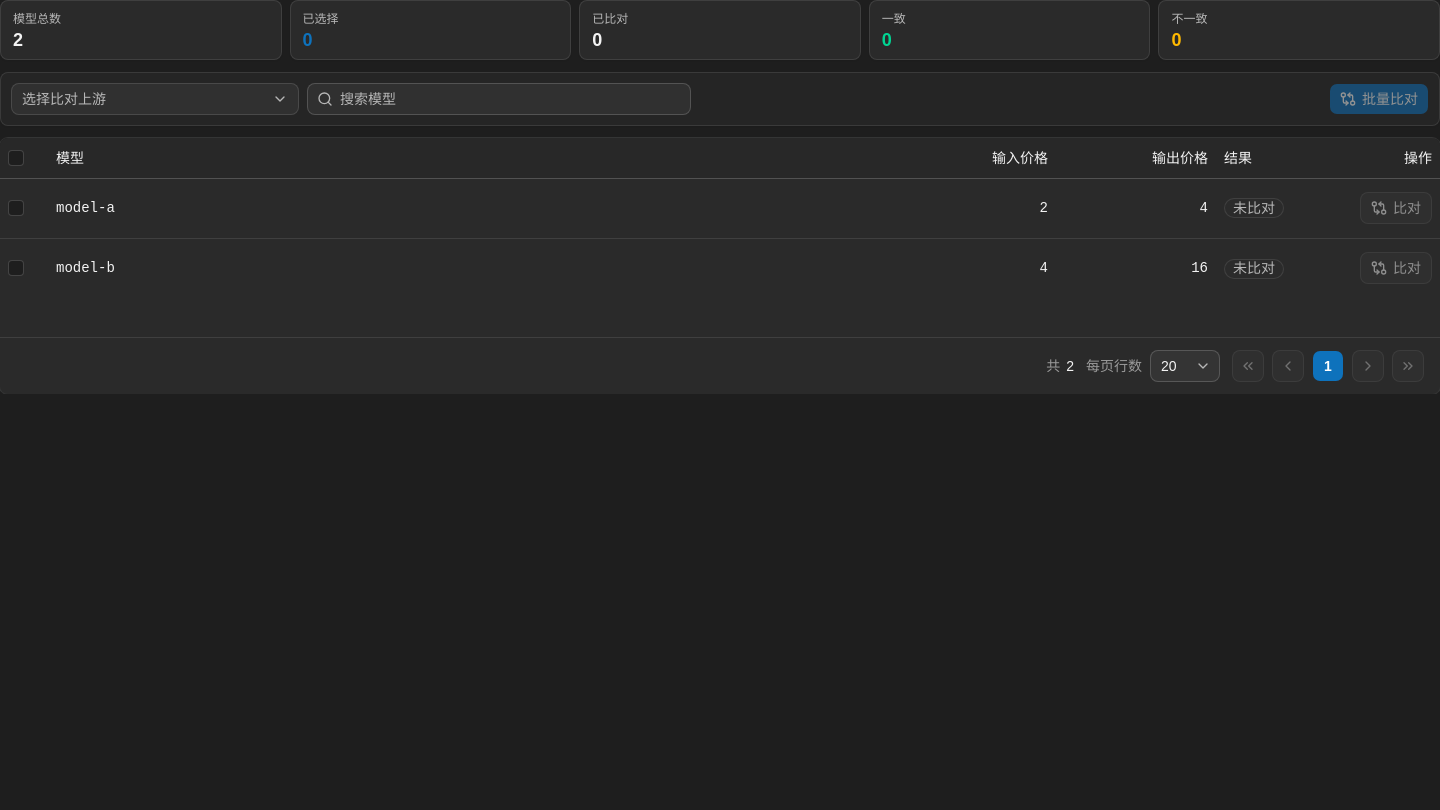
Test: New API 价格比对 › 比对按 Token 计费的 New API 上游时展示输入、输出及缓存价格
The image size is (1440, 810).
Click the dropdown labelled "比对上游": [64, 99] box x1=11 y1=83 x2=299 y2=115
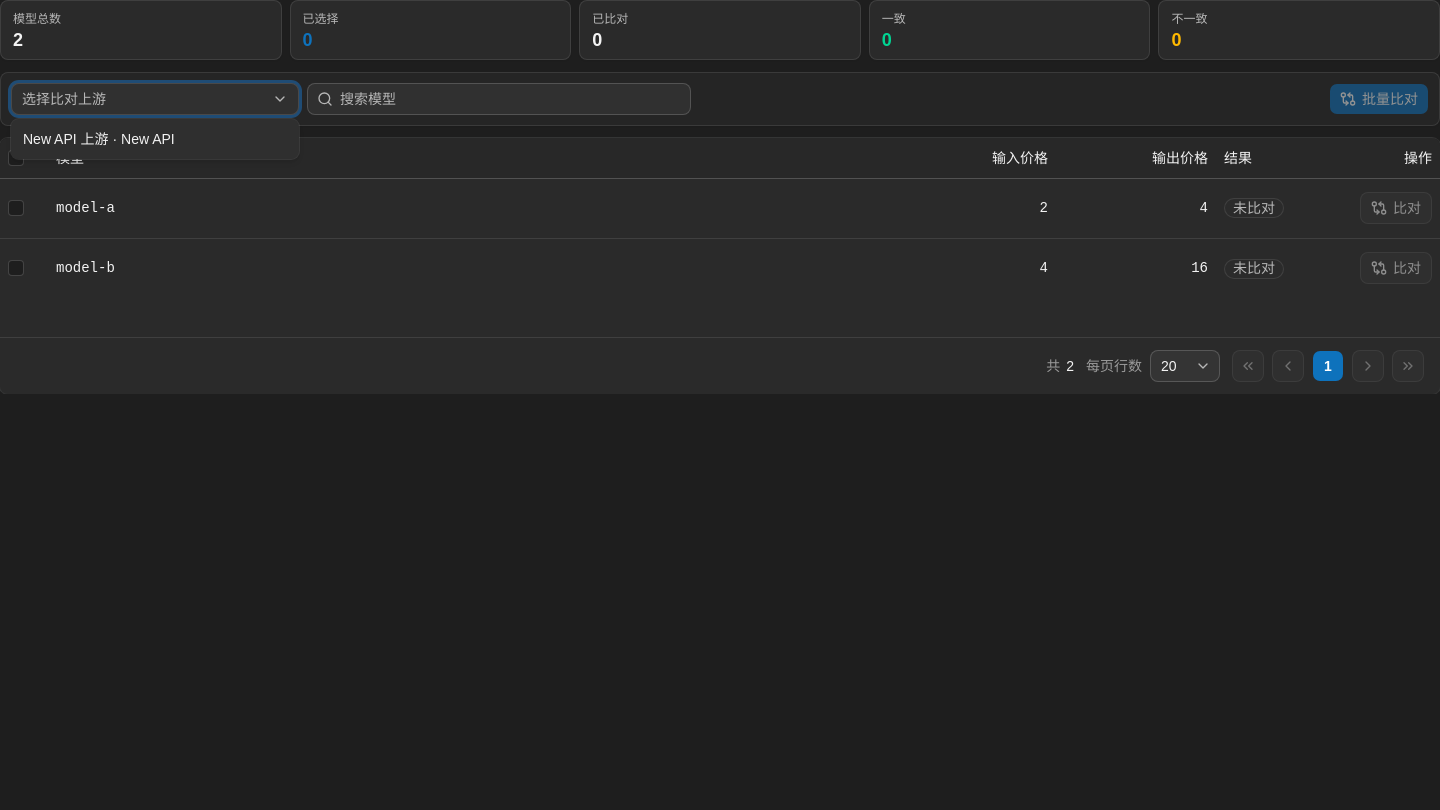
Click the option "New API 上游 · New API": [155, 139] box x1=15 y1=123 x2=295 y2=155
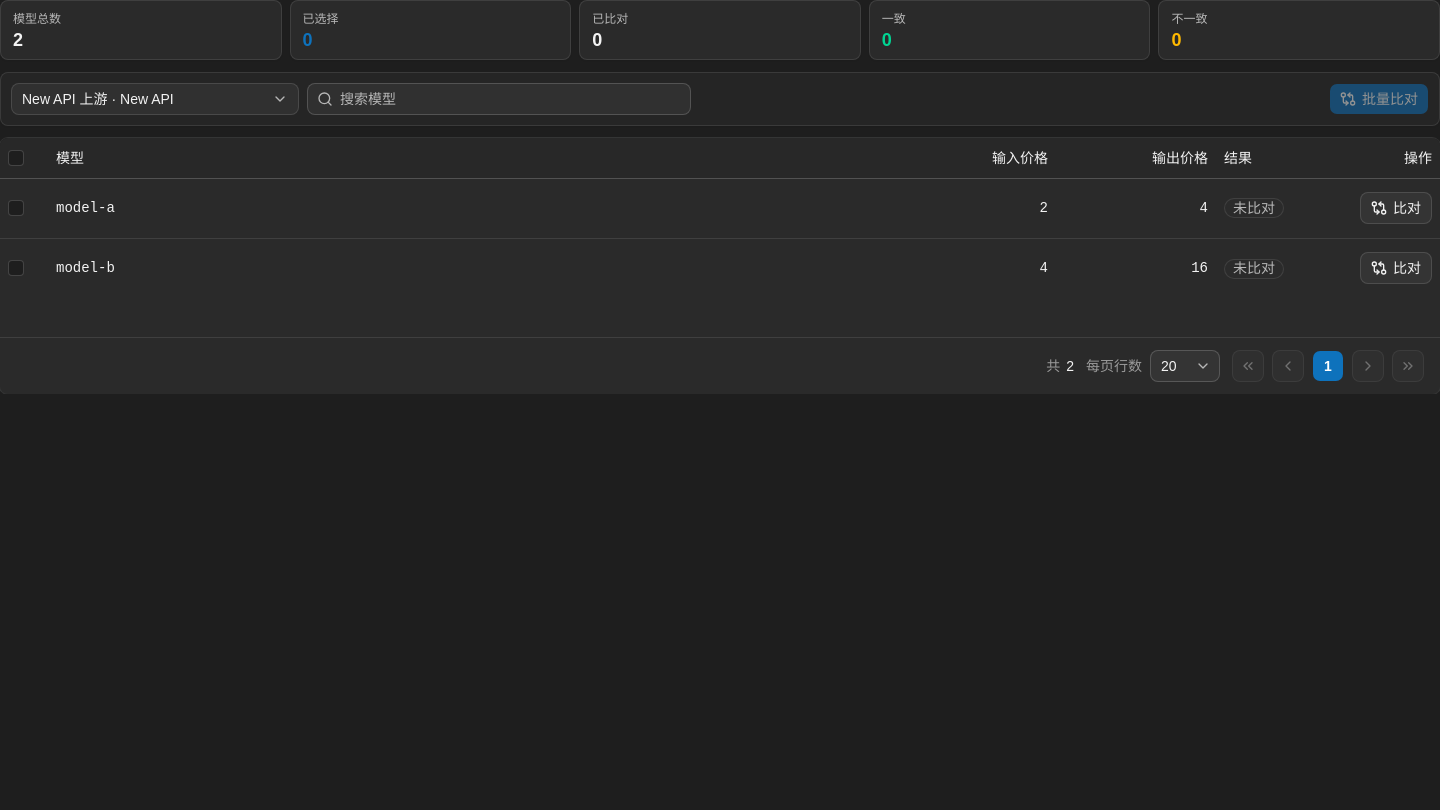
Click the button with aria-label "比对 model-a": [1396, 208] box x1=1360 y1=192 x2=1432 y2=224
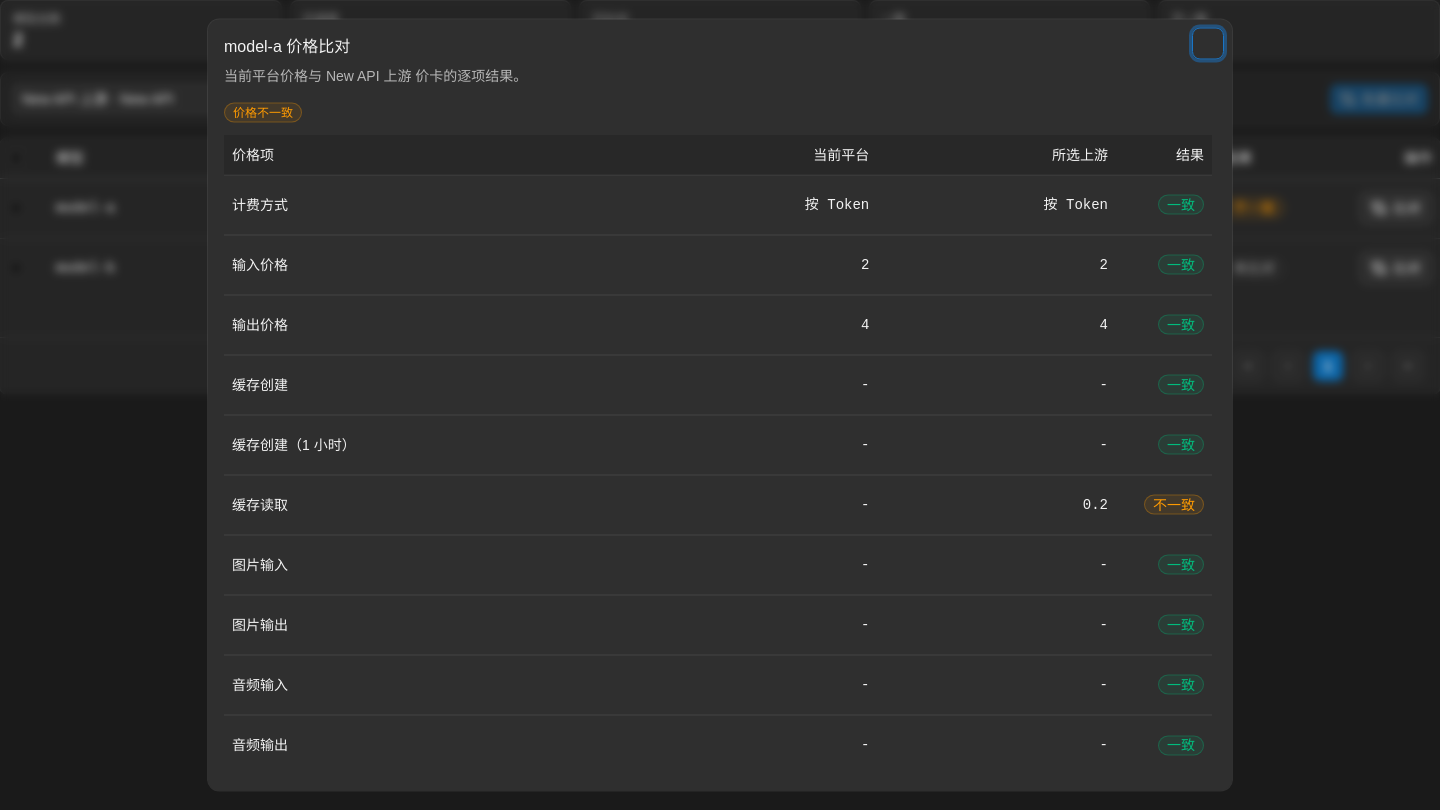
Check: the 2nd cell "按 Token" is shown, box x1=877 y1=174 x2=1116 y2=234
Check: the 2nd cell "2" is shown, box x1=877 y1=234 x2=1116 y2=294
Check: the 2nd cell "4" is shown, box x1=877 y1=294 x2=1116 y2=354
